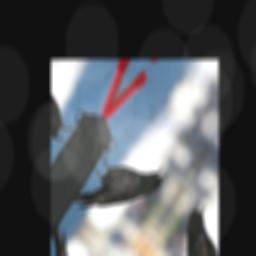Crow: (67, 122, 171, 250)
